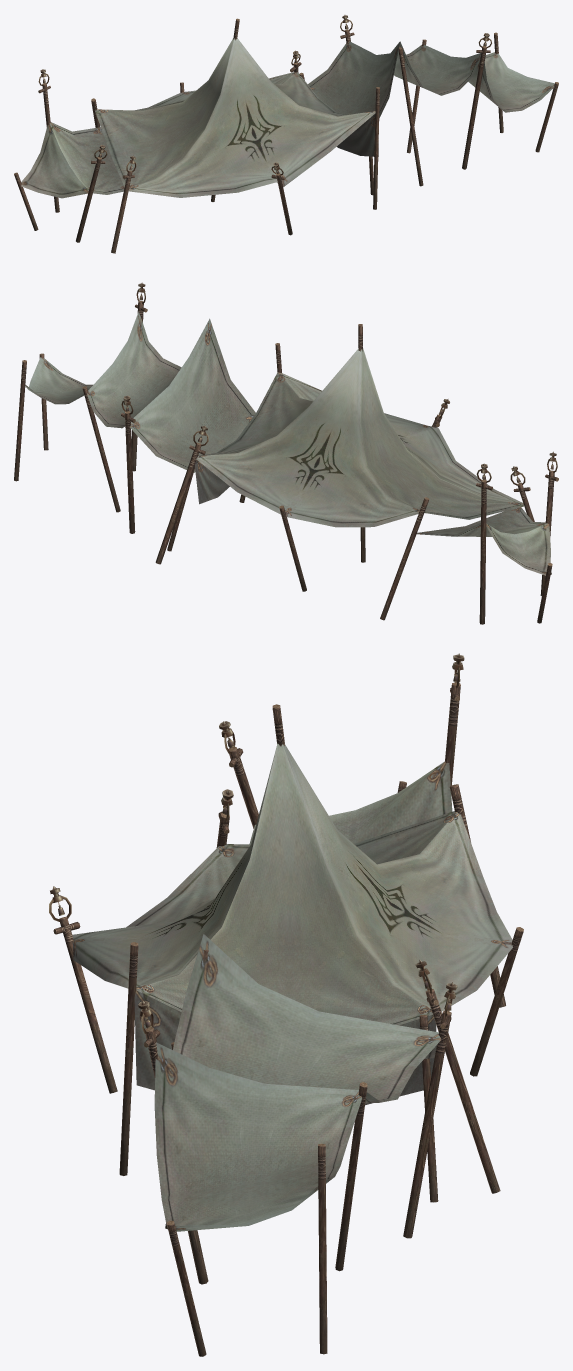
Rendered from yzc_wdm08.FBX.
3 views of the same model, one above another, from view 1: azimuth 30°, elevation 25°; view 2: azimuth 150°, elevation 25°; view 3: azimuth 270°, elevation 25° (orthographic). The views are drawn at different scales.
Parts seen in each view (by area): view 1: yzc_wdm08; view 2: yzc_wdm08; view 3: yzc_wdm08.
Part boxes in pixels (x1,y1,x2,y2): yzc_wdm08: (14,15,558,253); yzc_wdm08: (14,282,558,624); yzc_wdm08: (49,653,523,1356).
Bounding box in the file's own units: 3015 × 1129 × 1274.
